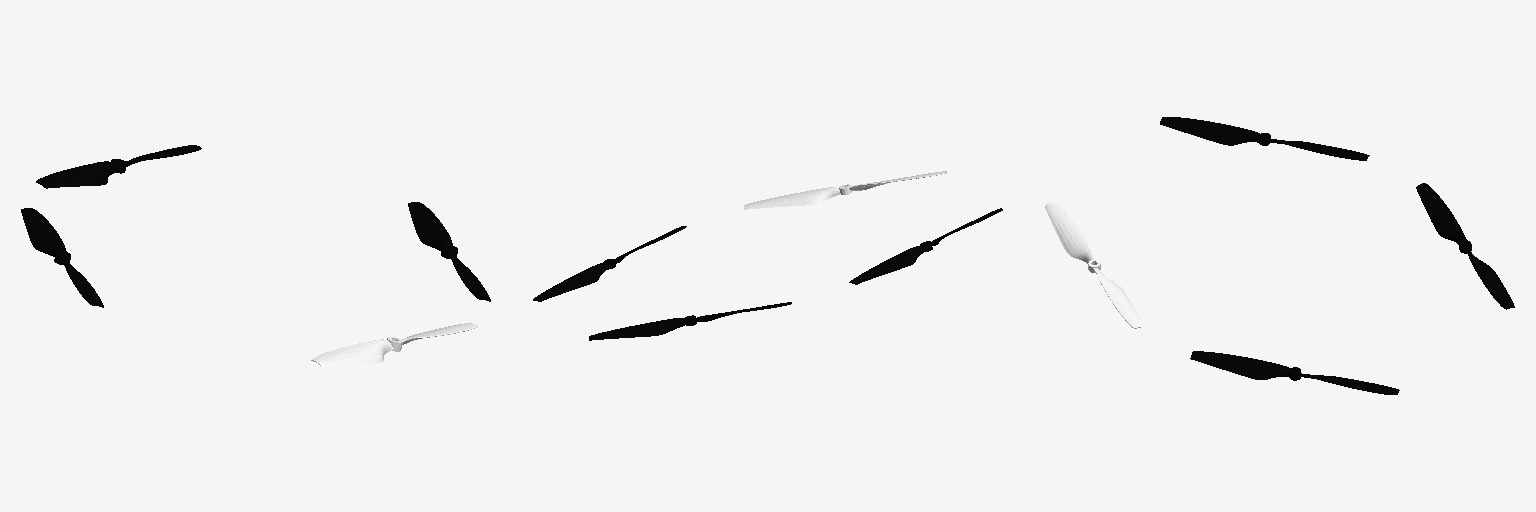
URDF robot description (drone):
<?xml version="1.0" encoding="utf-8"?>
<!-- This URDF was automatically created by SolidWorks to URDF Exporter! Originally created by Stephen Brawner ([email redacted]) 
     Commit Version: 1.6.0-4-g7f85cfe  Build Version: 1.6.7995.38578
     For more information, please see http://wiki.ros.org/sw_urdf_exporter -->
<robot
  name="drone">
  <link
    name="base_link">
    <inertial>
      <origin
        xyz="0.0103418906548951 0.00170712651985278 0.0389749903153565"
        rpy="0 0 0" />
      <mass
        value="0.465801934319542" />
      <inertia
        ixx="0.00126230082475791"
        ixy="-6.4690287986084E-06"
        ixz="0.000253790065522549"
        iyy="0.0011921077696541"
        iyz="-2.02416249882526E-06"
        izz="0.00219718514213613" />
    </inertial>
    <visual>
      <origin
        xyz="0 0 0"
        rpy="0 0 0" />
      <geometry>
        <mesh
          filename="package://drone/meshes/base_link.STL" />
      </geometry>
      <material
        name="">
        <color
          rgba="0.776470588235294 0.756862745098039 0.737254901960784 1" />
      </material>
    </visual>
    <collision>
      <origin
        xyz="0 0 0"
        rpy="0 0 0" />
      <geometry>
        <mesh
          filename="package://drone/meshes/base_link.STL" />
      </geometry>
    </collision>
  </link>
  <link
    name="Motor_1_link">
    <inertial>
      <origin
        xyz="1.0619E-07 -9.4884E-09 -0.00086879"
        rpy="0 0 0" />
      <mass
        value="0.070494" />
      <inertia
        ixx="0.00019938"
        ixy="0.00011033"
        ixz="4.763E-11"
        iyy="6.408E-05"
        iyz="-6.7365E-11"
        izz="0.0002628" />
    </inertial>
    <visual>
      <origin
        xyz="0 0 0"
        rpy="0 0 0" />
      <geometry>
        <mesh
          filename="package://drone/meshes/Motor_1_link.STL" />
      </geometry>
      <material
        name="">
        <color
          rgba="0.043137 0.043137 0.043137 1" />
      </material>
    </visual>
    <collision>
      <origin
        xyz="0 0 0"
        rpy="0 0 0" />
      <geometry>
        <mesh
          filename="package://drone/meshes/Motor_1_link.STL" />
      </geometry>
    </collision>
  </link>
  <joint
    name="Motor_1_joint"
    type="continuous">
    <origin
      xyz="0.0033989 0.22459 0.086331"
      rpy="-2.9937 -0.20012 2.4984" />
    <parent
      link="base_link" />
    <child
      link="Motor_1_link" />
    <axis
      xyz="0 0 1" />
    <limit
      effort="100"
      velocity="100" />
    <dynamics
      damping="0.1"
      friction="0.1" />
  </joint>
  <link
    name="Motor_2_link">
    <inertial>
      <origin
        xyz="5.3331E-08 1.8562E-07 0.00086877"
        rpy="0 0 0" />
      <mass
        value="0.070494" />
      <inertia
        ixx="0.00023041"
        ixy="8.375E-05"
        ixz="-6.3371E-12"
        iyy="3.3059E-05"
        iyz="-5.5956E-11"
        izz="0.0002628" />
    </inertial>
    <visual>
      <origin
        xyz="0 0 0"
        rpy="0 0 0" />
      <geometry>
        <mesh
          filename="package://drone/meshes/Motor_2_link.STL" />
      </geometry>
      <material
        name="">
        <color
          rgba="0.043137 0.043137 0.043137 1" />
      </material>
    </visual>
    <collision>
      <origin
        xyz="0 0 0"
        rpy="0 0 0" />
      <geometry>
        <mesh
          filename="package://drone/meshes/Motor_2_link.STL" />
      </geometry>
    </collision>
  </link>
  <joint
    name="Motor_2_joint"
    type="continuous">
    <origin
      xyz="0.23836 0.019158 0.02677"
      rpy="-0.14791 0.20012 -0.64321" />
    <parent
      link="base_link" />
    <child
      link="Motor_2_link" />
    <axis
      xyz="0 0 1" />
    <limit
      effort="100"
      velocity="100" />
    <dynamics
      damping="0.1"
      friction="0.1" />
  </joint>
  <link
    name="Motor_3_link">
    <inertial>
      <origin
        xyz="2.1108E-08 -5.1585E-07 0.00086876"
        rpy="0 0 0" />
      <mass
        value="0.070493" />
      <inertia
        ixx="0.00023041"
        ixy="8.375E-05"
        ixz="-3.1749E-11"
        iyy="3.3059E-05"
        iyz="1.492E-10"
        izz="0.0002628" />
    </inertial>
    <visual>
      <origin
        xyz="0 0 0"
        rpy="0 0 0" />
      <geometry>
        <mesh
          filename="package://drone/meshes/Motor_3_link.STL" />
      </geometry>
      <material
        name="">
        <color
          rgba="0.043137 0.043137 0.043137 1" />
      </material>
    </visual>
    <collision>
      <origin
        xyz="0 0 0"
        rpy="0 0 0" />
      <geometry>
        <mesh
          filename="package://drone/meshes/Motor_3_link.STL" />
      </geometry>
    </collision>
  </link>
  <joint
    name="Motor_3_joint"
    type="continuous">
    <origin
      xyz="-0.19575 -0.017825 0.13681"
      rpy="0.14791 -0.20012 2.4984" />
    <parent
      link="base_link" />
    <child
      link="Motor_3_link" />
    <axis
      xyz="0 0 1" />
    <limit
      effort="100"
      velocity="100" />
    <dynamics
      damping="0.1"
      friction="0.1" />
  </joint>
  <link
    name="Motor_4_link">
    <inertial>
      <origin
        xyz="0 0 0"
        rpy="0 0 0" />
      <mass
        value="0" />
      <inertia
        ixx="0"
        ixy="0"
        ixz="0"
        iyy="0"
        iyz="0"
        izz="0" />
    </inertial>
    <visual>
      <origin
        xyz="0 0 0"
        rpy="0 0 0" />
      <geometry>
        <mesh
          filename="package://drone/meshes/Motor_4_link.STL" />
      </geometry>
      <material
        name="">
        <color
          rgba="1 1 1 1" />
      </material>
    </visual>
    <collision>
      <origin
        xyz="0 0 0"
        rpy="0 0 0" />
      <geometry>
        <mesh
          filename="package://drone/meshes/Motor_4_link.STL" />
      </geometry>
    </collision>
  </link>
  <joint
    name="Motor_4_joint"
    type="continuous">
    <origin
      xyz="0.039219 -0.22325 0.077251"
      rpy="-2.8954 -0.032591 1.6998" />
    <parent
      link="base_link" />
    <child
      link="Motor_4_link" />
    <axis
      xyz="0 0 1" />
    <limit
      effort="100"
      velocity="100" />
    <dynamics
      damping="0.1"
      friction="0.1" />
  </joint>
</robot>

--- Facts derived from the render (not from the file) ---
The picture shows the robot from 3 angles, left to right: view 1: azimuth 30°, elevation 25°; view 2: azimuth 150°, elevation 25°; view 3: azimuth 270°, elevation 25°; orthographic projection.
Model drone with 5 links and 4 joints (4 continuous), rooted at base_link, posed every joint at zero.
Links seen in each view (by area): view 1: Motor_4_link, Motor_1_link, Motor_2_link, Motor_3_link; view 2: Motor_4_link, Motor_1_link, Motor_3_link, Motor_2_link; view 3: Motor_3_link, Motor_2_link, Motor_4_link, Motor_1_link.
Link boxes in pixels (left/top/right/bottom): Motor_4_link: left=311, top=323, right=477, bottom=366; Motor_1_link: left=36, top=145, right=201, bottom=188; Motor_2_link: left=408, top=202, right=490, bottom=301; Motor_3_link: left=21, top=208, right=103, bottom=307; Motor_4_link: left=744, top=171, right=946, bottom=209; Motor_1_link: left=589, top=302, right=791, bottom=340; Motor_3_link: left=849, top=208, right=1002, bottom=284; Motor_2_link: left=533, top=226, right=686, bottom=301; Motor_3_link: left=1160, top=117, right=1369, bottom=160; Motor_2_link: left=1190, top=351, right=1399, bottom=394; Motor_4_link: left=1045, top=202, right=1143, bottom=328; Motor_1_link: left=1416, top=183, right=1514, bottom=309.
Size in the robot's own frame: 0.5156 by 0.5685 by 0.1315 metres.
4 mesh visuals loaded from 5 distinct referenced files (4 binary STL); not drawn: 1 (reference not matched to a file when rendering).
